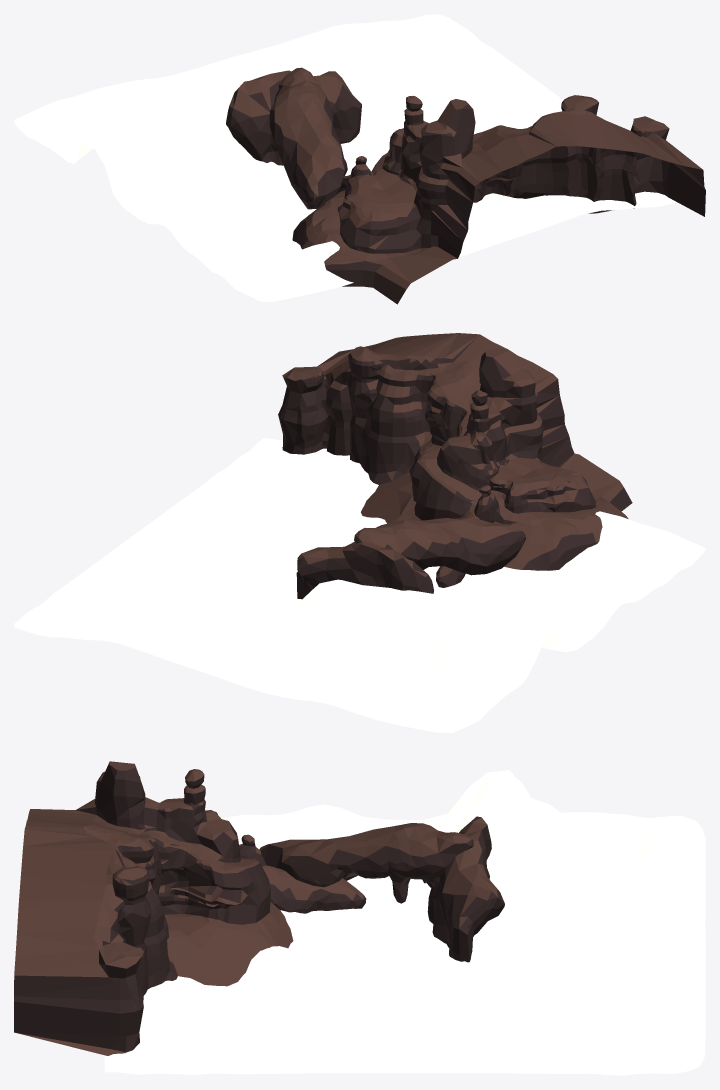
File: rocks_01a.glb
3 views of the same model, one above another, from view 1: azimuth 30°, elevation 25°; view 2: azimuth 150°, elevation 25°; view 3: azimuth 270°, elevation 25° (orthographic). The views are drawn at different scales.
Visible parts, largest first — view 1: Rocks_01a; view 2: Rocks_01a; view 3: Rocks_01a.
Part boxes in pixels (x1,y1,x2,y2): Rocks_01a: [14, 14, 705, 304]; Rocks_01a: [14, 333, 705, 732]; Rocks_01a: [14, 761, 705, 1075].
Size of the model in its own units: 95.86 by 34.02 by 109.
